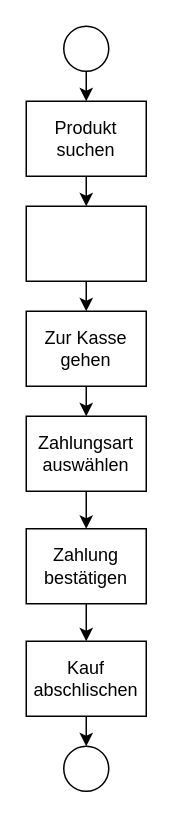
Image size: 173x818. Some labels were removed from this diagram. Here are the shapes that lost their labels. From the top down, the centre of each, then its label:
(85,48): Start
(85,243): In Warenkorb legen
(85,768): Ende
